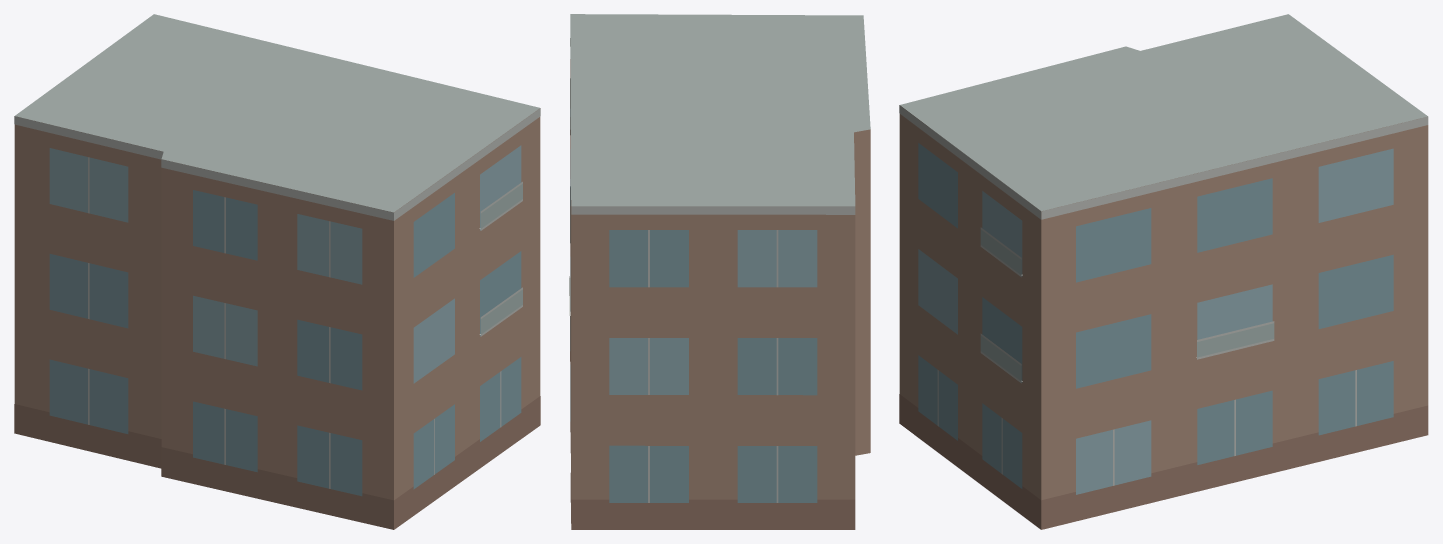
File: survey-upis-32709364.glb
3 renders of one model, left to right at view 1: azimuth 30°, elevation 25°; view 2: azimuth 150°, elevation 25°; view 3: azimuth 270°, elevation 25°, orthographic.
Visible parts, largest first — view 1: survey-upis-32709364.tmp; view 2: survey-upis-32709364.tmp; view 3: survey-upis-32709364.tmp.
Part boxes in pixels (x1,y1,x2,y2): survey-upis-32709364.tmp: (14, 14, 540, 529); survey-upis-32709364.tmp: (569, 14, 870, 529); survey-upis-32709364.tmp: (899, 14, 1428, 529).
Bounding box in the file's own units: 12.16 × 9.15 × 13.77.
